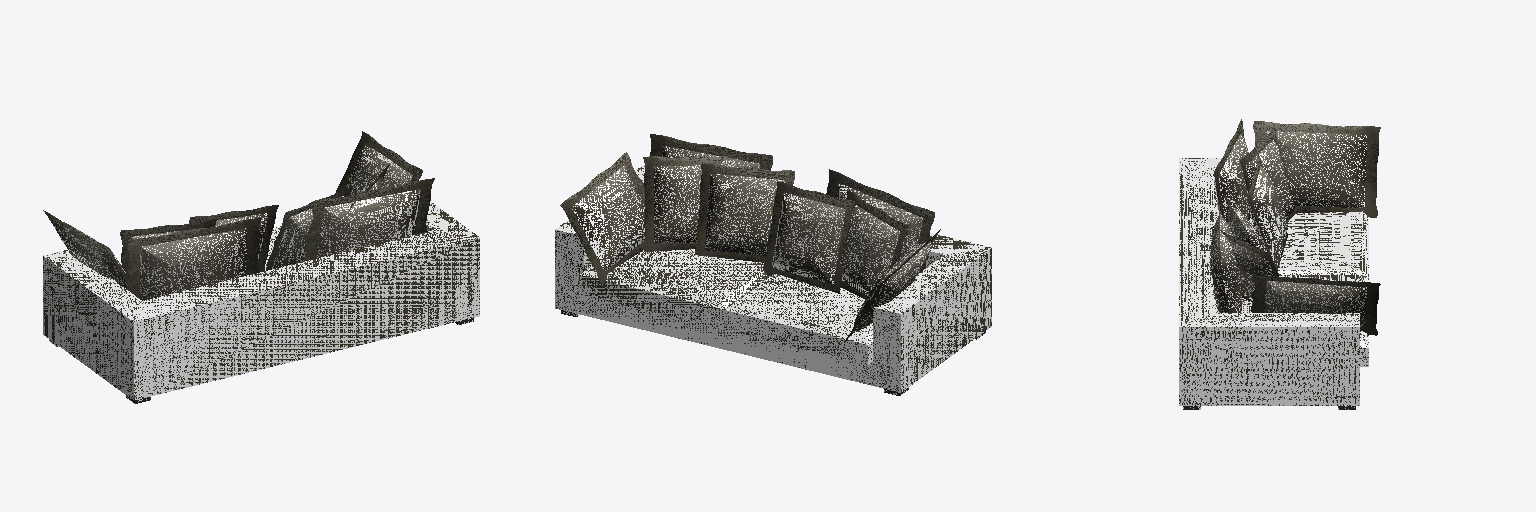
3 renders of one model, left to right at view 1: azimuth 30°, elevation 25°; view 2: azimuth 150°, elevation 25°; view 3: azimuth 270°, elevation 25°, orthographic.
Parts seen in each view (by area): view 1: mesh5_mesh5-geometry, mesh3_mesh3-geometry, mesh4_mesh4-geometry, mesh1_mesh1-geometry; view 2: mesh5_mesh5-geometry, mesh3_mesh3-geometry, mesh4_mesh4-geometry, mesh1_mesh1-geometry; view 3: mesh5_mesh5-geometry, mesh3_mesh3-geometry, mesh1_mesh1-geometry, mesh4_mesh4-geometry, mesh2_mesh2-geometry.
Boxes of the visible parts, x1,y1,x2,y2 form: mesh5_mesh5-geometry: [43, 201, 479, 403]; mesh3_mesh3-geometry: [130, 144, 420, 300]; mesh4_mesh4-geometry: [120, 131, 434, 298]; mesh1_mesh1-geometry: [54, 220, 127, 288]; mesh5_mesh5-geometry: [555, 164, 991, 395]; mesh3_mesh3-geometry: [571, 145, 922, 295]; mesh4_mesh4-geometry: [560, 134, 934, 299]; mesh1_mesh1-geometry: [853, 241, 930, 331]; mesh5_mesh5-geometry: [1179, 158, 1368, 409]; mesh3_mesh3-geometry: [1211, 134, 1366, 329]; mesh1_mesh1-geometry: [1266, 131, 1366, 207]; mesh4_mesh4-geometry: [1213, 119, 1380, 335]; mesh2_mesh2-geometry: [1253, 121, 1380, 217].
Size of the model in its own units: 0.8415 by 0.3312 by 0.4268.
7 materials, 5 textured.